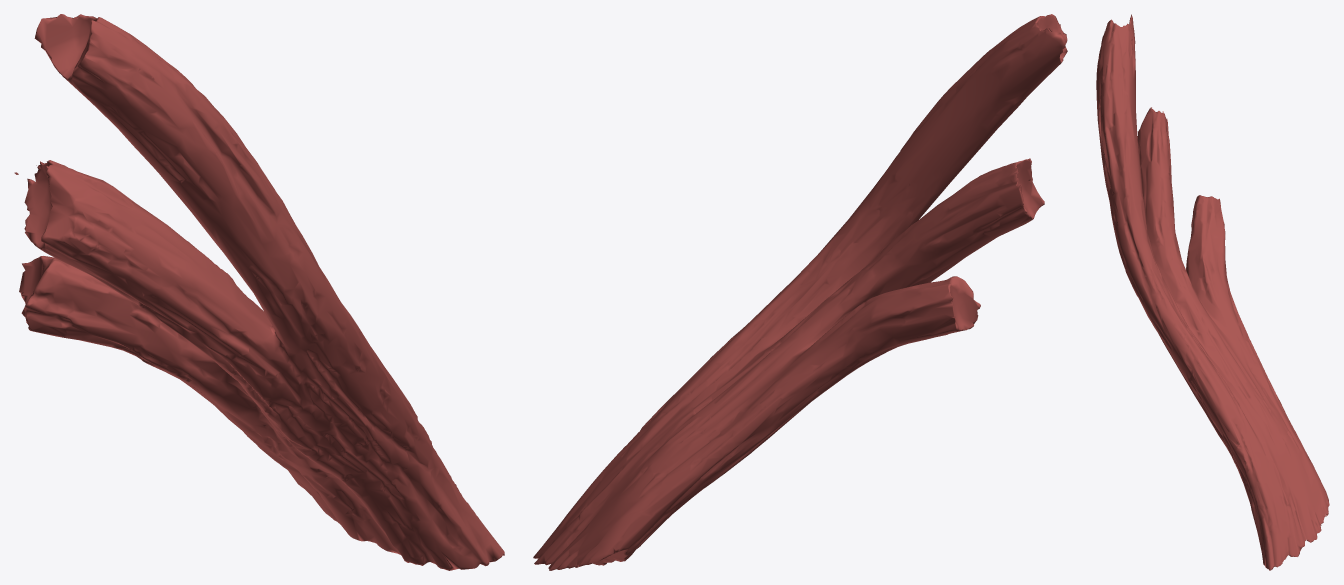
The model's file is FMA13389.glb.
3 renders of one model, left to right at view 1: azimuth 30°, elevation 25°; view 2: azimuth 150°, elevation 25°; view 3: azimuth 270°, elevation 25°, orthographic. The views are drawn at different scales.
Visible parts, largest first — view 1: FMA13389; view 2: FMA13389; view 3: FMA13389.
Boxes of the visible parts, <box> form: FMA13389: <box>14,14,504,570</box>; FMA13389: <box>533,14,1067,570</box>; FMA13389: <box>1096,14,1329,570</box>.
Size of the model in its own units: 0.0414 by 0.0514 by 0.0266.
